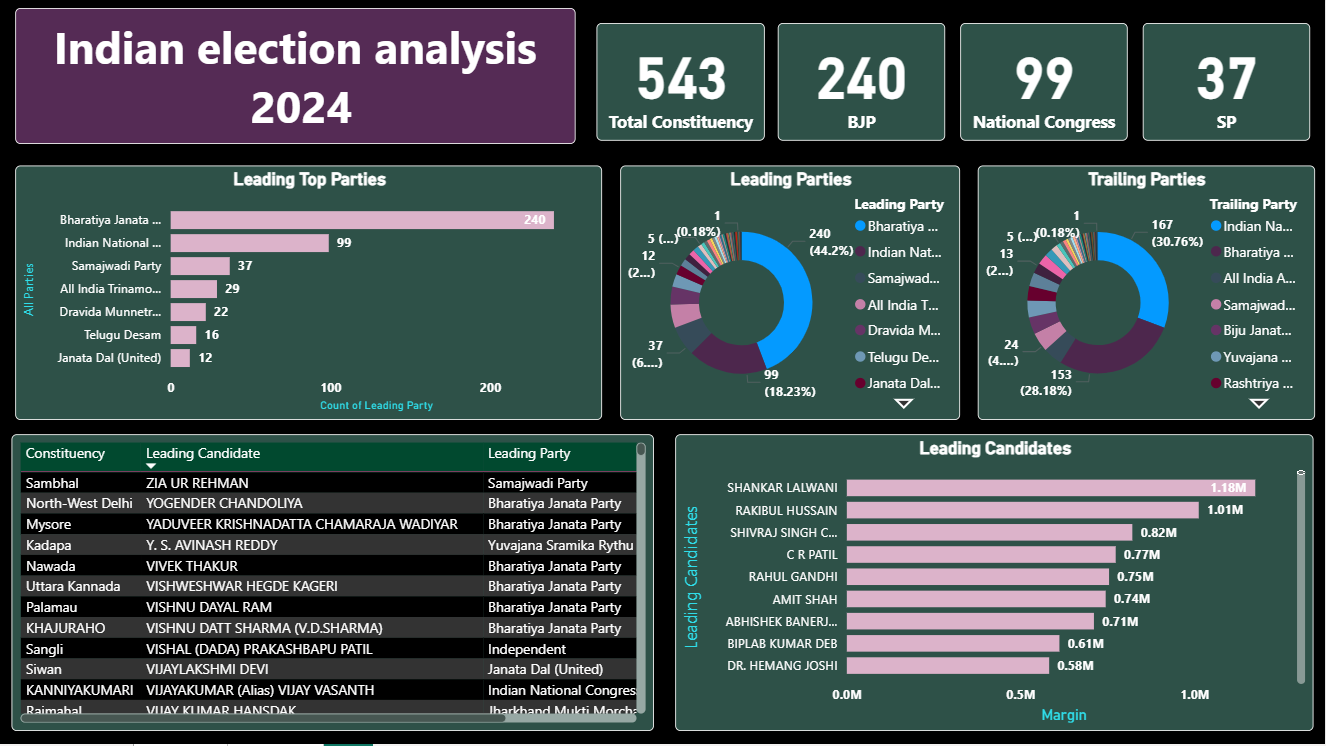

This screenshot's page, from the dashboard's own definition file:
{"tool":"powerbi","page":{"name":"Page 1","canvas":[1280,720],"ordinal":0},"visuals":[{"type":"clusteredBarChart","title":"Leading Top Parties","fields":{"Category":["election_results_2024.Leading Party"],"Y":["election_results_2024.Leading Party"]},"box":[15.1,161.9,566.7,245.6],"z":0},{"type":"clusteredBarChart","title":"Leading Candidates","fields":{"Category":["election_results_2024.Leading Candidate"],"Y":["election_results_2024.Margin"]},"box":[653.2,421.3,616.1,286.8],"z":1000},{"type":"donutChart","title":"Leading Parties","fields":{"Category":["election_results_2024.Leading Party"],"Y":["election_results_2024.Leading Party"]},"box":[599.7,161.9,328,245.6],"z":2000},{"type":"tableEx","fields":{"Values":["election_results_2024.Constituency","election_results_2024.Leading Candidate","election_results_2024.Leading Party"]},"box":[12.3,421.3,620.2,286.8],"z":3000},{"type":"card","fields":{"Values":["election_results_2024.Constituency"]},"box":[576.7,24.4,162.8,114],"z":4000},{"type":"card","fields":{"Values":["election_results_2024.Leading Party"]},"box":[751.2,24.4,161.6,114],"z":5000},{"type":"card","fields":{"Values":["election_results_2024.Leading Party"]},"box":[927.9,24.4,161.6,114],"z":6000},{"type":"card","fields":{"Values":["election_results_2024.Leading Party"]},"box":[1103.5,24.4,161.6,114],"z":7000},{"type":"donutChart","title":"Trailing Parties","fields":{"Category":["election_results_2024.Trailing Party"],"Y":["election_results_2024.Trailing Party"]},"box":[944.1,161.9,325.2,245.6],"z":8000},{"type":"textbox","box":[15.1,9.3,540.7,131.4],"z":9000}]}

Visuals, with their boxes in screenshot pixels (x1, y1, x2, y2), scaled from the page's 1280x720 canvas onto the 1326x746 screenshot:
"Leading Top Parties" clusteredBarChart: [16, 168, 603, 422]
"Leading Candidates" clusteredBarChart: [677, 437, 1315, 734]
"Leading Parties" donutChart: [621, 168, 961, 422]
tableEx - election_results_2024.Constituency x election_results_2024.Leading Candidate: [13, 437, 655, 734]
card - election_results_2024.Constituency: [597, 25, 766, 143]
card - election_results_2024.Leading Party: [778, 25, 946, 143]
card - election_results_2024.Leading Party: [961, 25, 1129, 143]
card - election_results_2024.Leading Party: [1143, 25, 1311, 143]
"Trailing Parties" donutChart: [978, 168, 1315, 422]
textbox: [16, 10, 576, 146]
